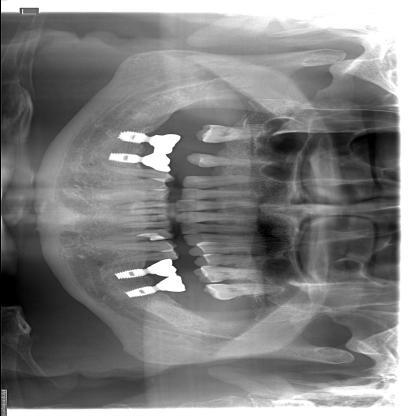Bicon: (102, 148, 140, 166), (119, 286, 158, 302), (110, 264, 148, 280), (114, 128, 146, 146)
